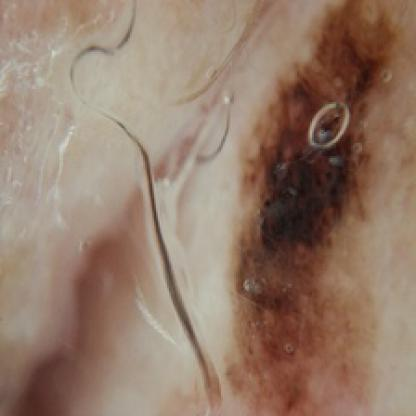malignant: (238, 7, 384, 394)
